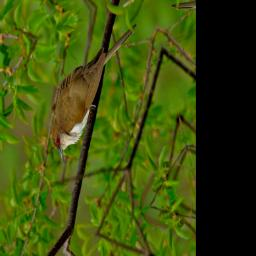Cuckoo: (34, 22, 160, 167)
